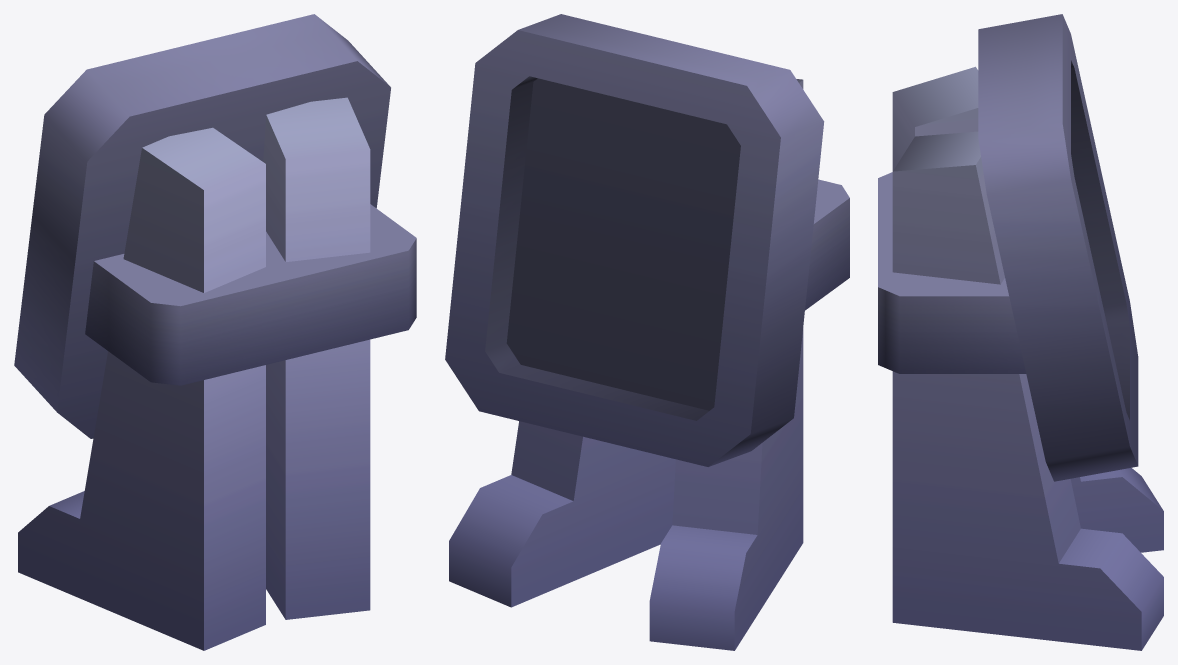
The model's file is kenney-conveyor-screen-small.glb.
The picture shows the model from 3 angles, left to right: view 1: azimuth 30°, elevation 25°; view 2: azimuth 150°, elevation 25°; view 3: azimuth 270°, elevation 25°; orthographic projection. The views are drawn at different scales.
Parts seen in each view (by area): view 1: screen-small; view 2: screen-small; view 3: screen-small.
Part boxes in pixels (left/top/right/bottom): screen-small: left=14, top=14, right=416, bottom=650; screen-small: left=445, top=14, right=849, bottom=650; screen-small: left=878, top=14, right=1163, bottom=650.
Size of the model in its own units: 0.6 by 0.9913 by 0.4992.
Materials: 1 (1 with a texture image).
